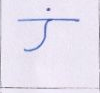anusvara: (47, 8, 50, 11)
